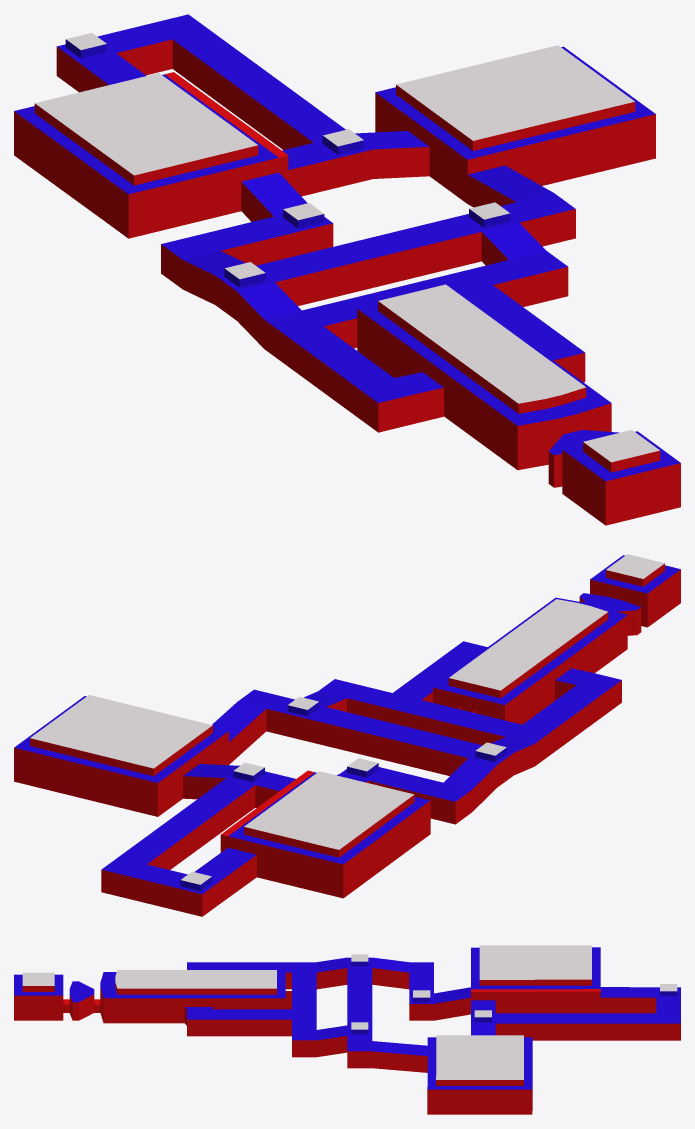
Rendered from FloorC 3.fbx.
3 renders of one model, top to bottom at view 1: azimuth 30°, elevation 25°; view 2: azimuth 150°, elevation 25°; view 3: azimuth 270°, elevation 25°, orthographic. The views are drawn at different scales.
Parts seen in each view (by area): view 1: Plane; view 2: Plane; view 3: Plane.
Part boxes in pixels (x1,y1,x2,y2): Plane: (14, 14, 680, 525); Plane: (14, 554, 680, 916); Plane: (14, 945, 680, 1114).
Bounding box in the file's own units: 5205 × 665 × 10800.
